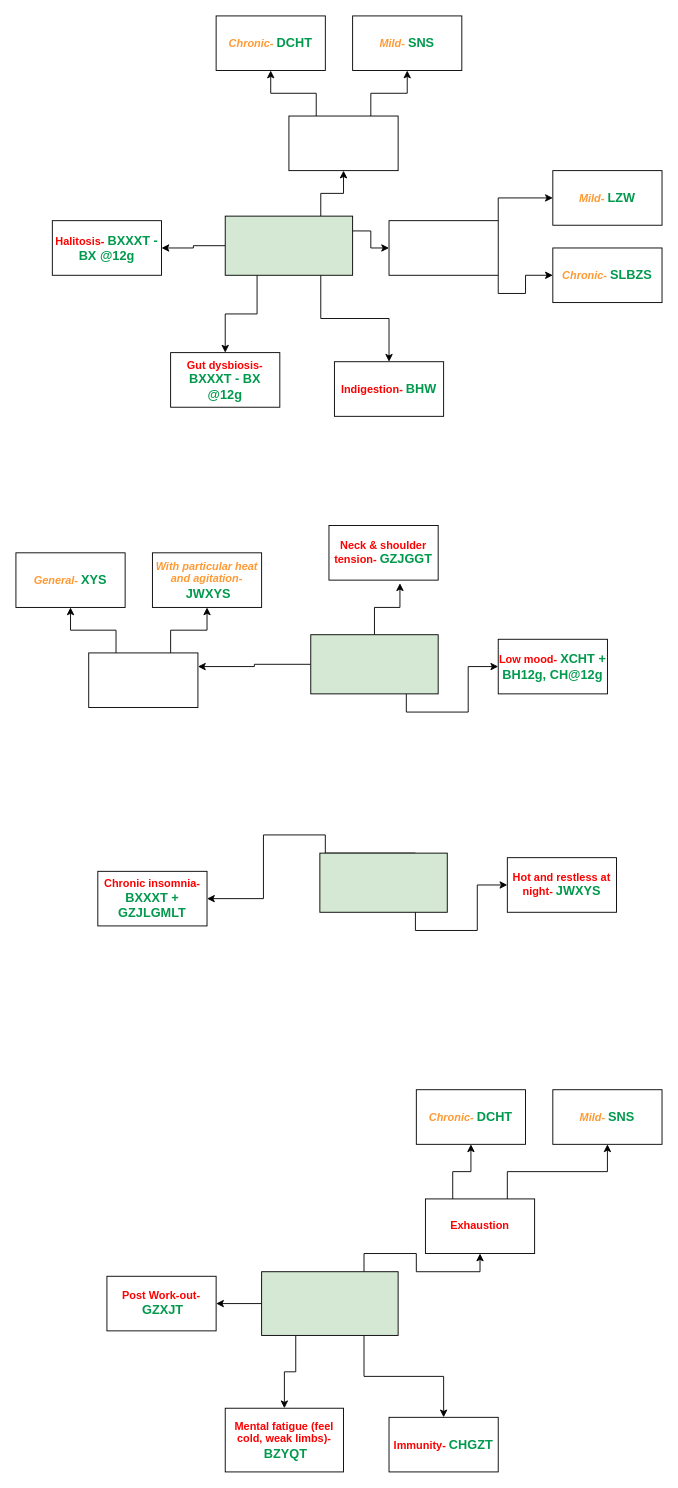
Image size: 678x1488. Some labels were removed from this diagram. Each missing label, with the box of its shape:
Constipation: (288, 115, 398, 171)
Diarrhoea/loose stools: (388, 220, 498, 275)
Digestion: (224, 215, 353, 275)
Energy/ Resources: (261, 1271, 398, 1335)
General Stress: (88, 652, 198, 708)
Sleep: (319, 852, 447, 912)
Stress: (310, 634, 438, 694)
